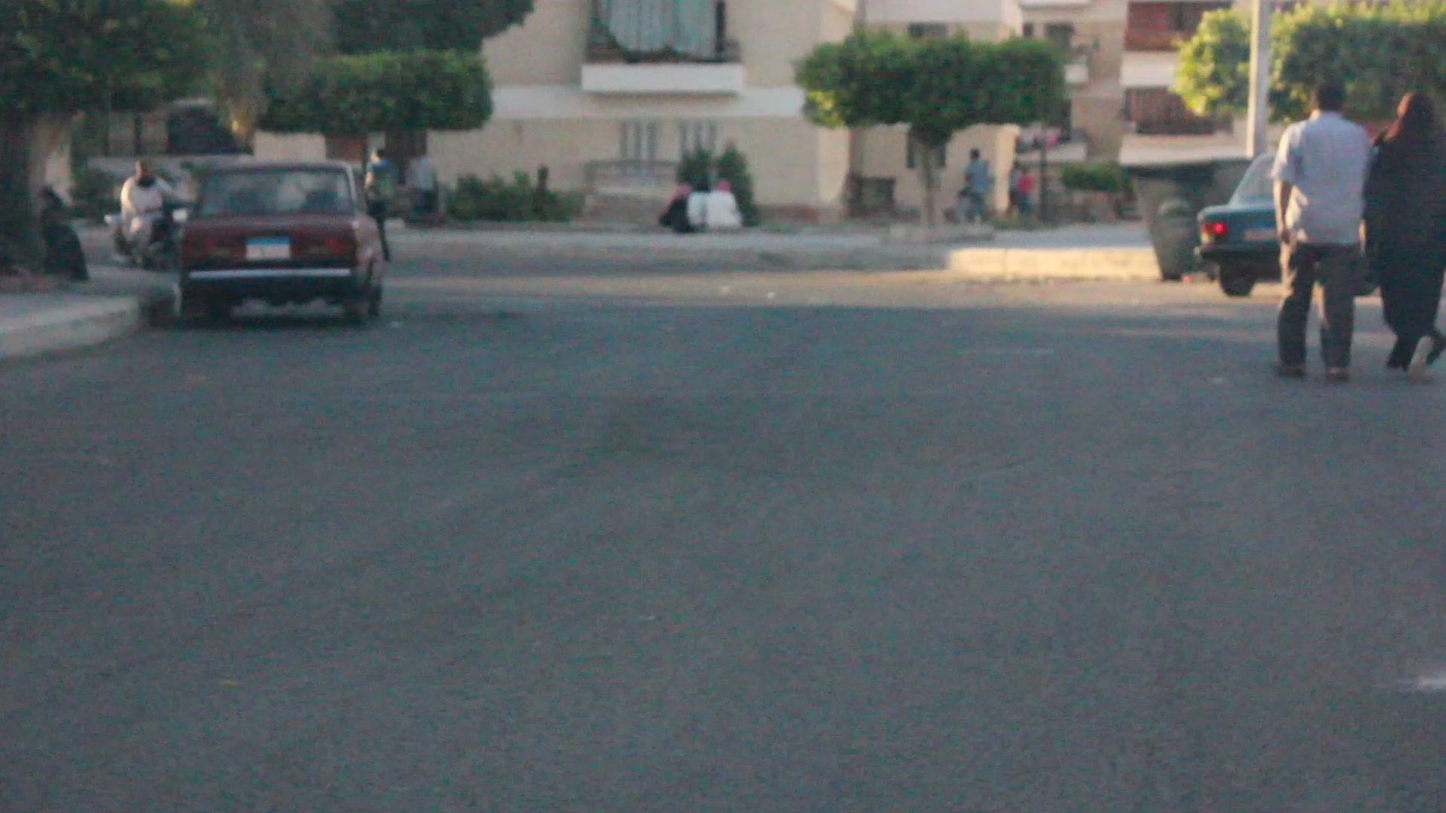Bump: (0, 388, 1446, 497)
